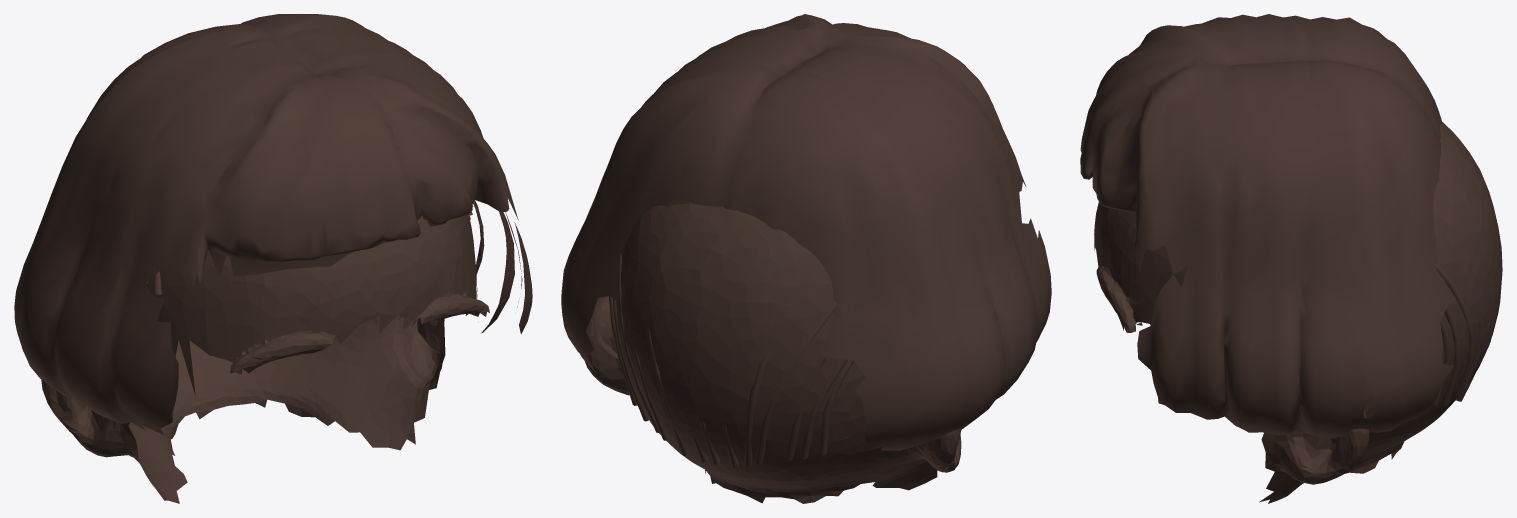
File: blunt-bob.glb
3 views of the same model, side by side, from view 1: azimuth 30°, elevation 25°; view 2: azimuth 150°, elevation 25°; view 3: azimuth 270°, elevation 25° (orthographic). The views are drawn at different scales.
Visible parts, largest first — view 1: Hair, HairScalp; view 2: Hair, HairScalp, HairPulledRootStrands; view 3: Hair, HairScalp, HairPulledRootStrands.
Boxes of the visible parts, x1=… form: Hair: x1=14, y1=14, x2=532, y2=434; HairScalp: x1=41, y1=214, x2=489, y2=503; Hair: x1=561, y1=14, x2=1051, y2=450; HairScalp: x1=585, y1=203, x2=961, y2=503; HairPulledRootStrands: x1=609, y1=251, x2=853, y2=467; Hair: x1=1080, y1=14, x2=1453, y2=438; HairScalp: x1=1094, y1=122, x2=1502, y2=503; HairPulledRootStrands: x1=1432, y1=263, x2=1495, y2=406.
Bounding box in the file's own units: 0.5296 × 0.4906 × 0.4572.
